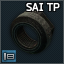Glock SAI thread protector: (0, 0, 64, 64)
